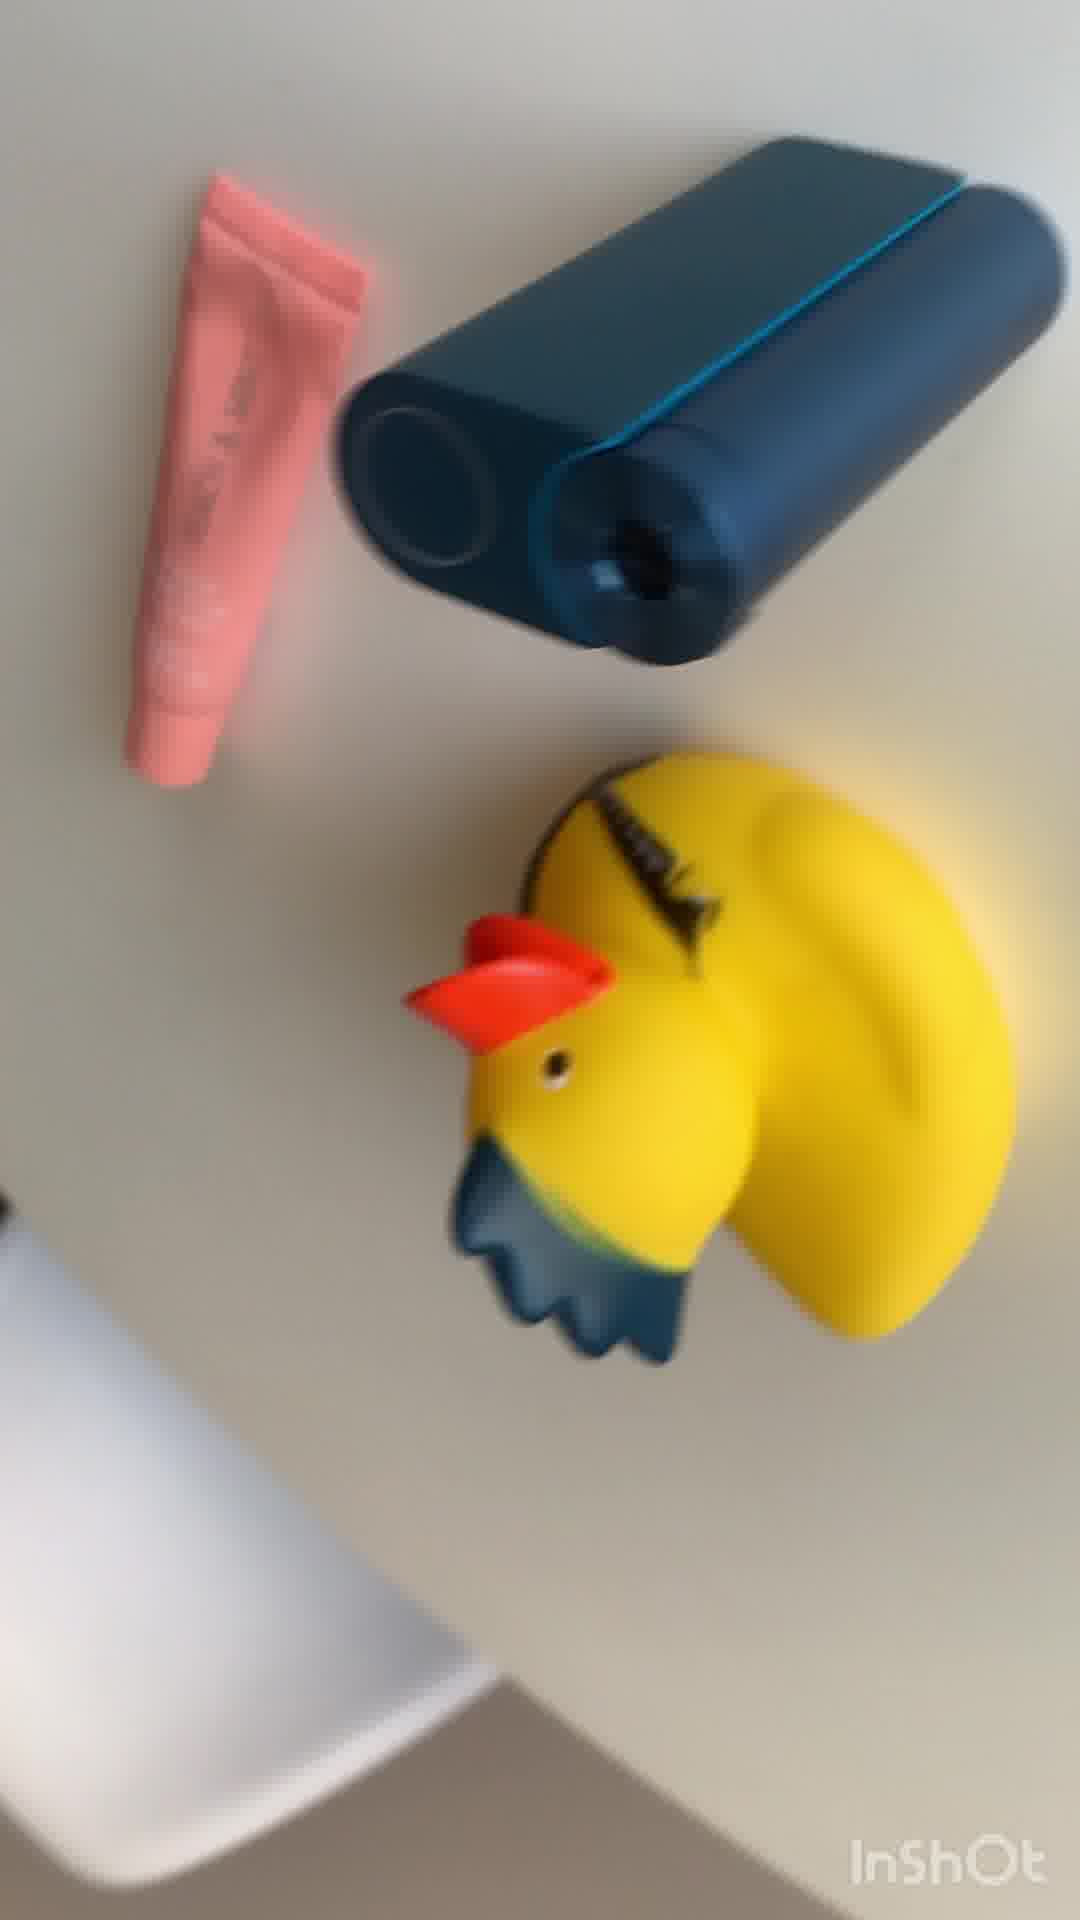duck: (413, 738, 1021, 1379)
glo: (336, 127, 1080, 667)
lip balm: (113, 162, 372, 811)
